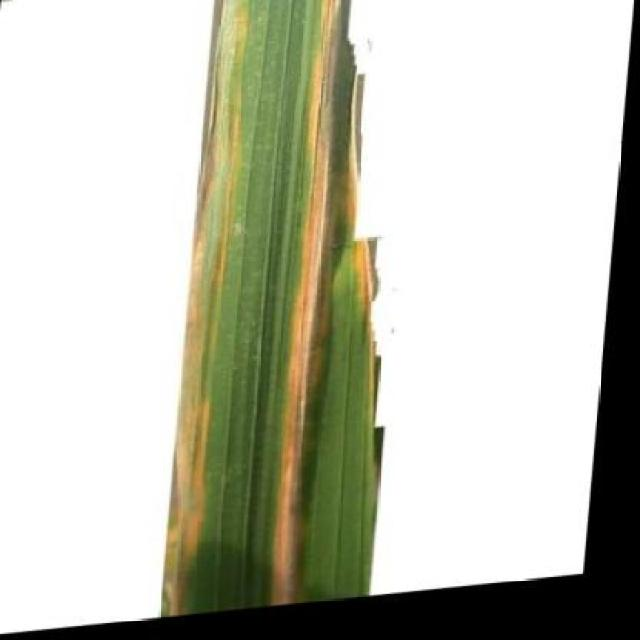Brown_Spot: (140, 0, 429, 625)
